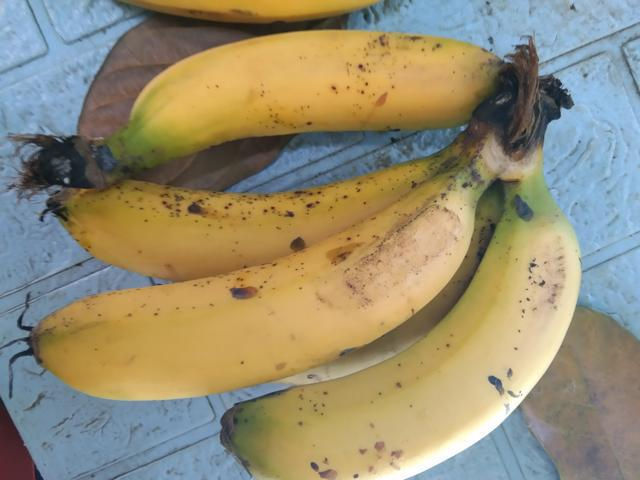ripe: (227, 205, 597, 479), (10, 222, 454, 445), (125, 20, 516, 174), (37, 173, 400, 282)
